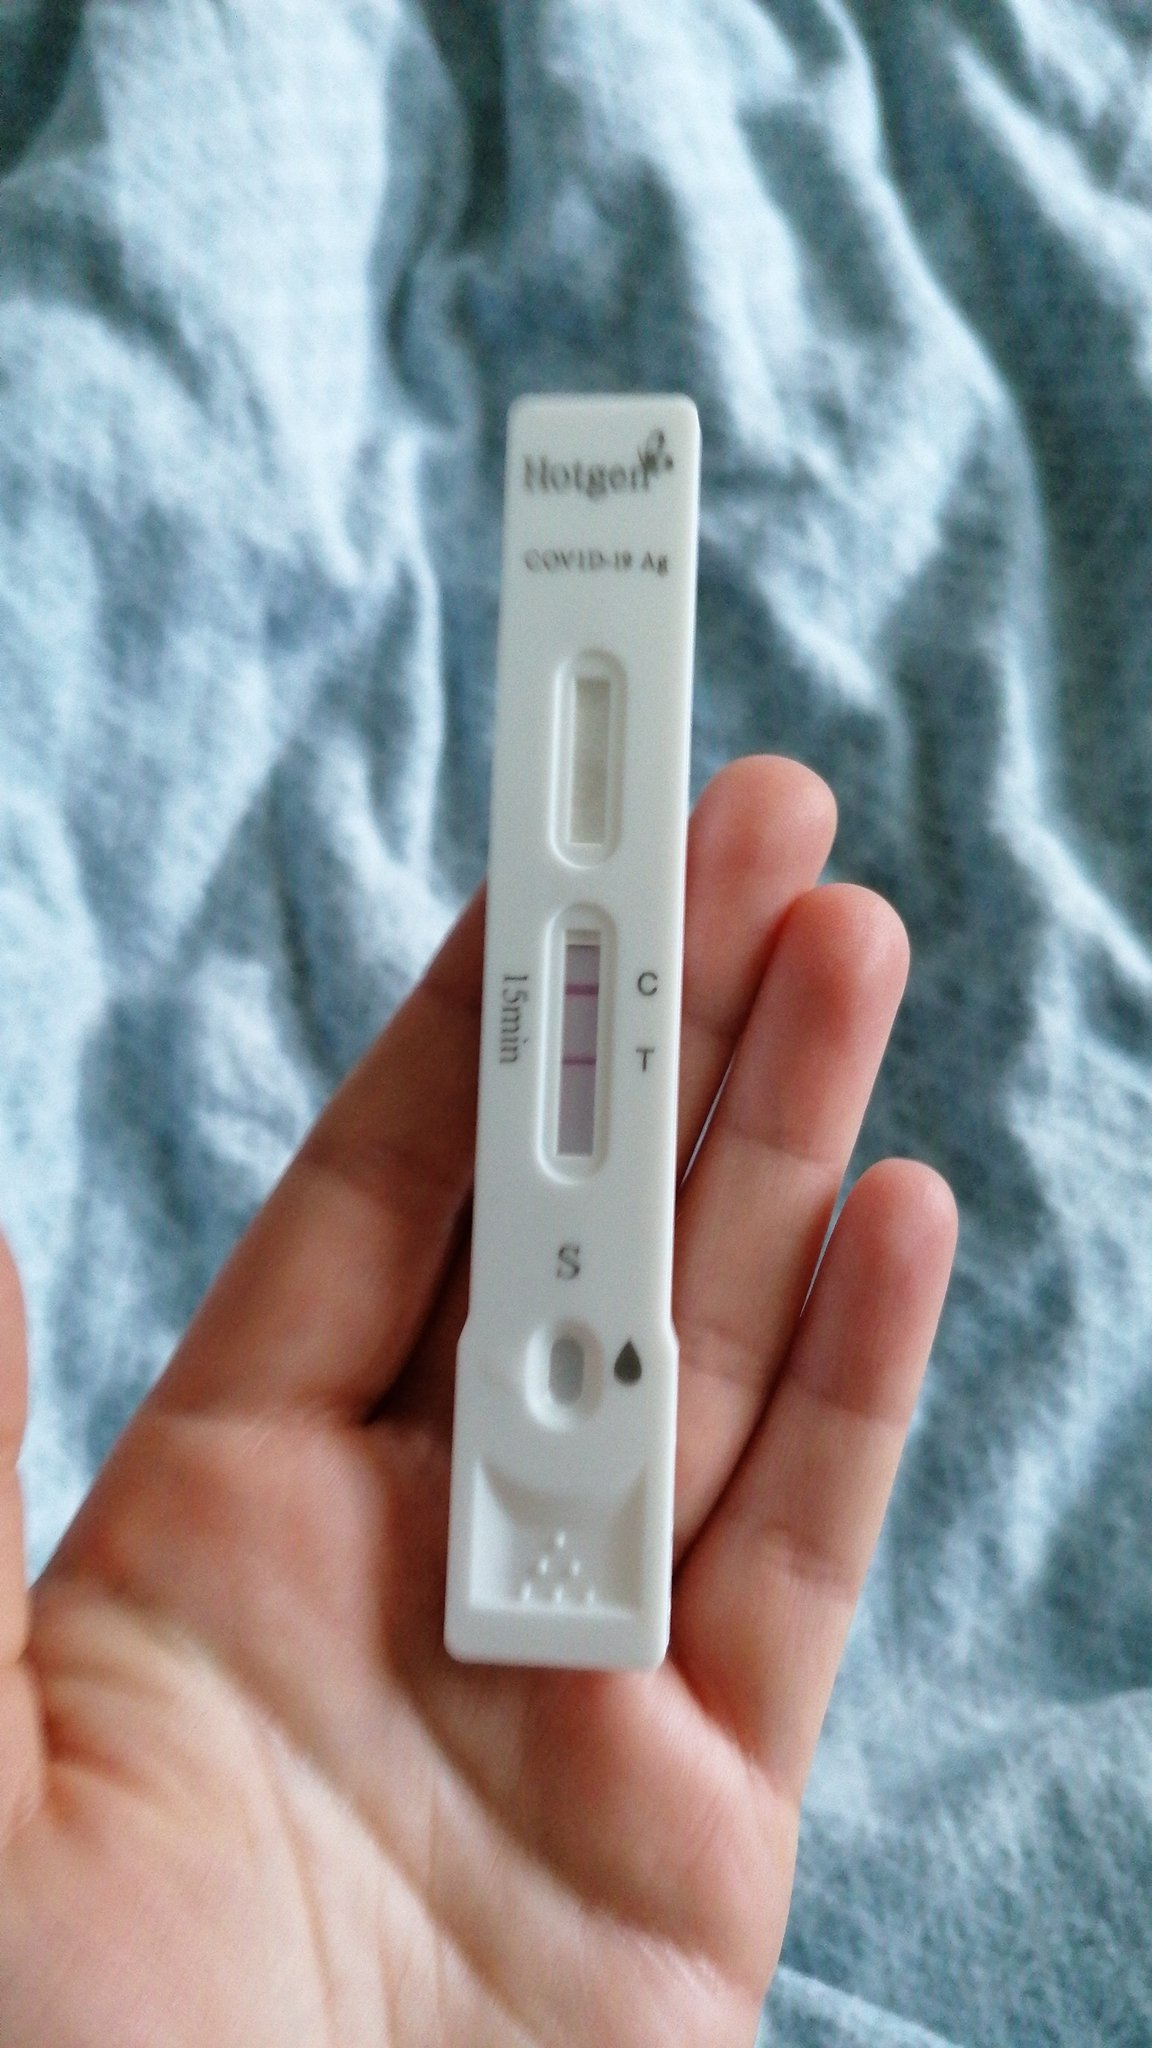positive: (553, 930, 612, 1144)
